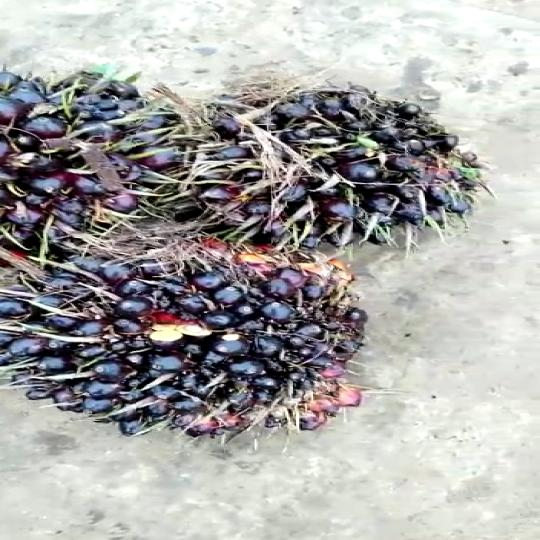mentah: (0, 256, 374, 437), (170, 70, 487, 258), (0, 65, 173, 268)
